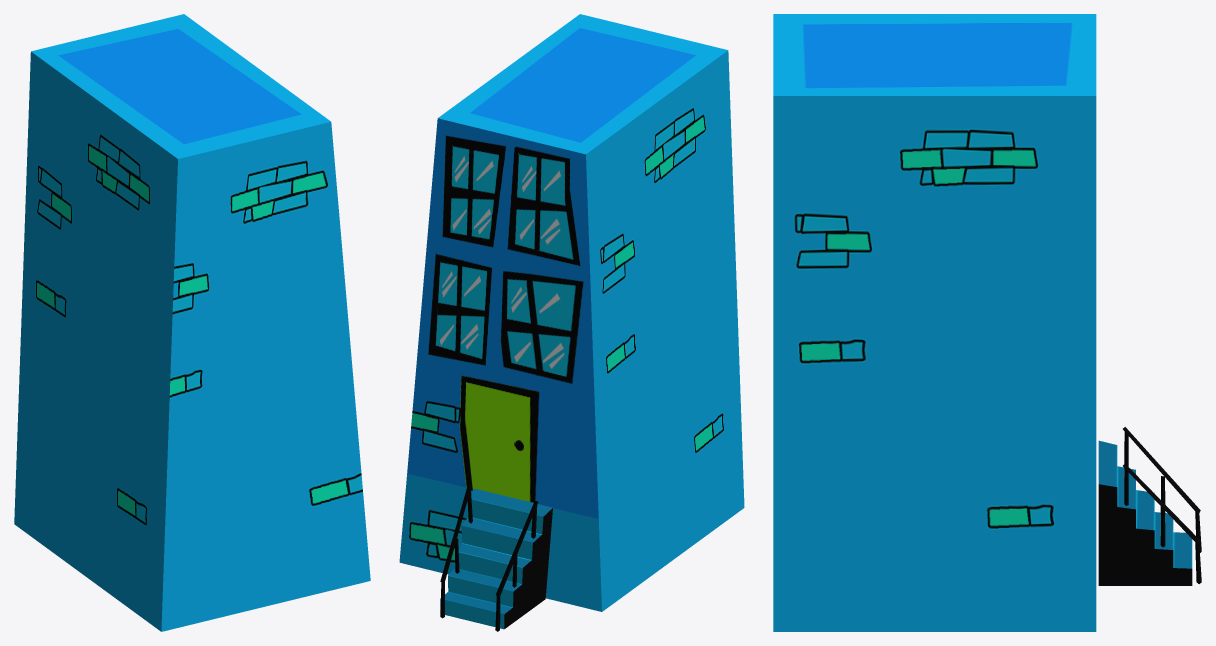
3 renders of one model, left to right at view 1: azimuth 30°, elevation 25°; view 2: azimuth 150°, elevation 25°; view 3: azimuth 270°, elevation 25°, orthographic. The views are drawn at different scales.
Visible parts, largest first — view 1: TODOS:HousesGroup:polySurface95; view 2: TODOS:HousesGroup:polySurface95; view 3: TODOS:HousesGroup:polySurface95.
Boxes of the visible parts, x1=… form: TODOS:HousesGroup:polySurface95: x1=14, y1=14, x2=370, y2=631; TODOS:HousesGroup:polySurface95: x1=399, y1=14, x2=744, y2=631; TODOS:HousesGroup:polySurface95: x1=773, y1=14, x2=1201, y2=631.
Bounding box in the file's own units: 9.75 × 20.86 × 15.74.
